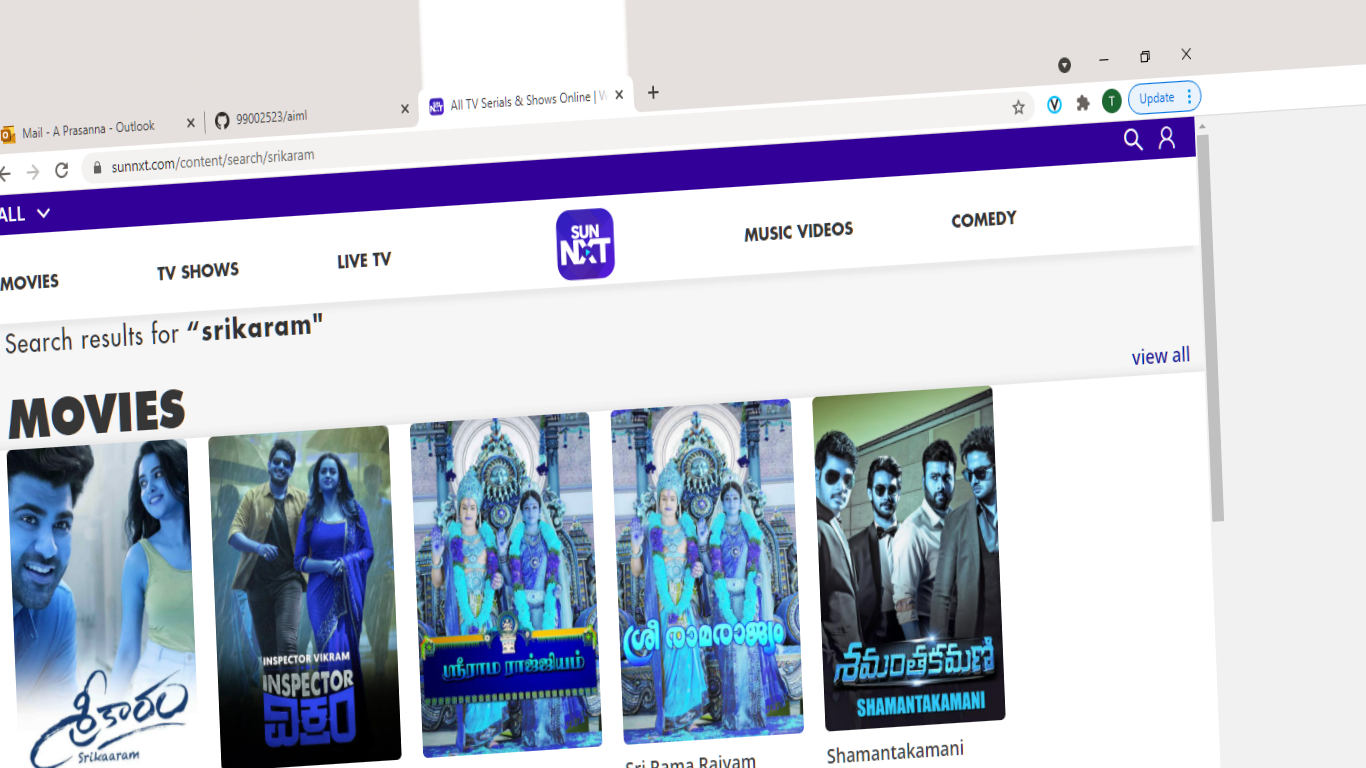profileicon: (1151, 120, 1183, 153)
resultsfound: (1, 308, 337, 371)
searchicon: (1114, 120, 1149, 160)
